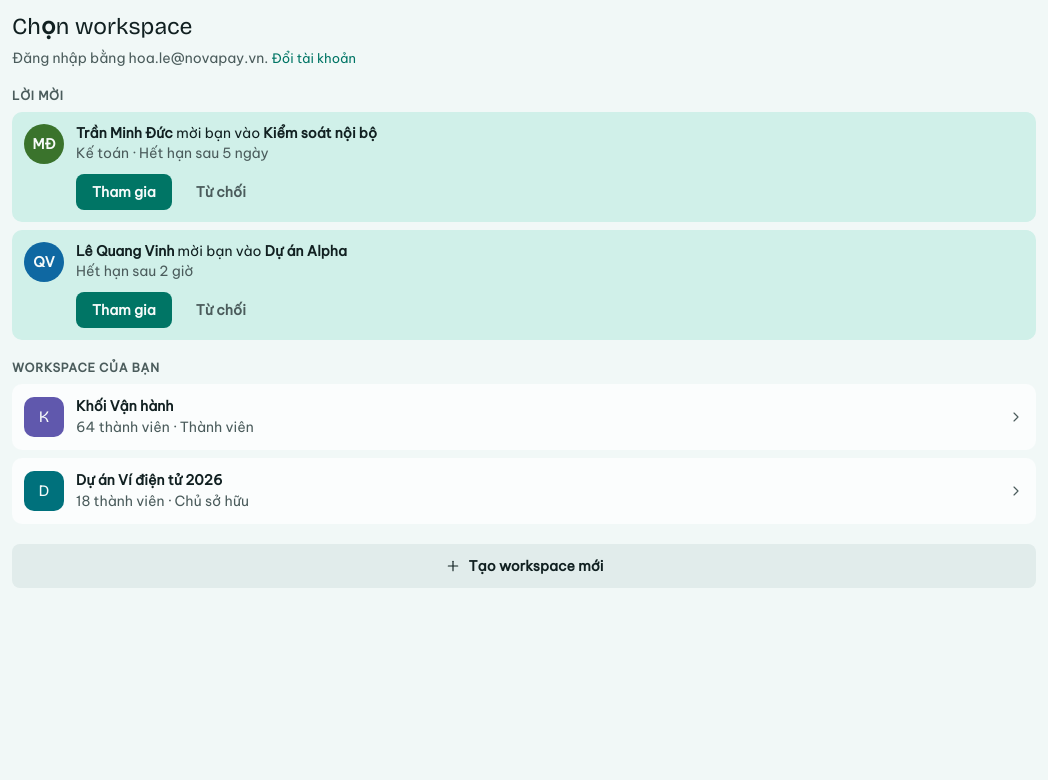
Test: Workspace selection: invitations › says what happened when declining fails
Click the button "Từ chối" below "Kế toán · Hết hạn sau 5 ngày" at x=221, y=192, box top-left (180, 174), bottom-right (262, 210)
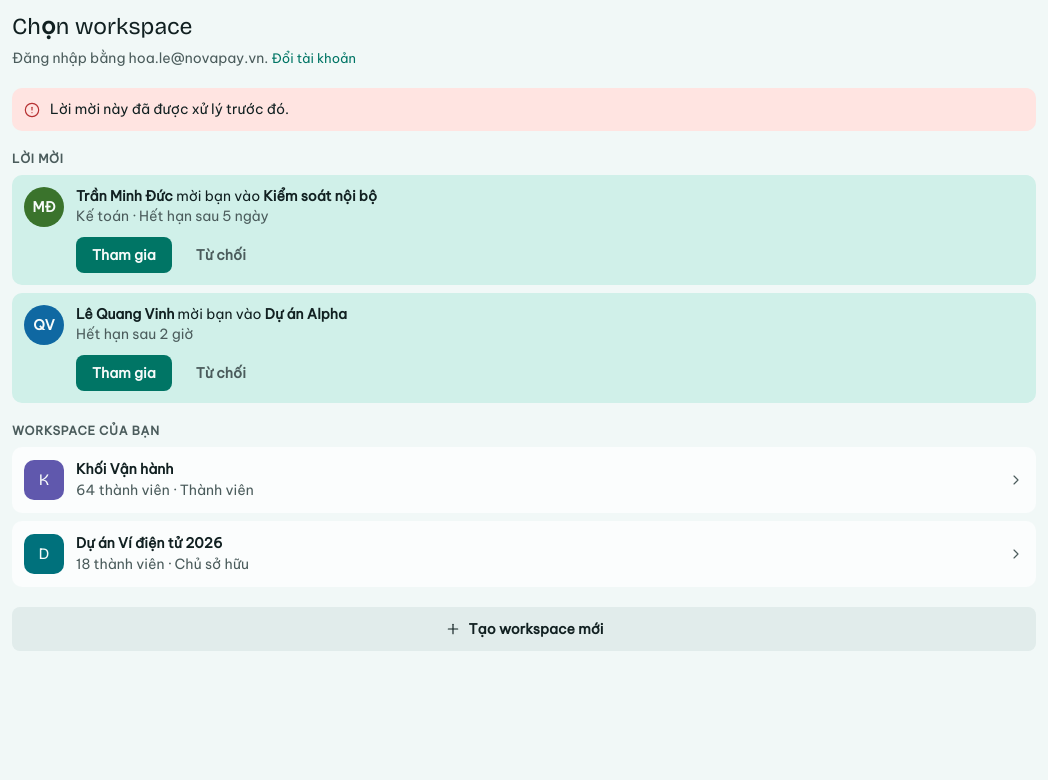
Now the message shows "đã được xử lý", box top-left (50, 100), bottom-right (289, 118)
